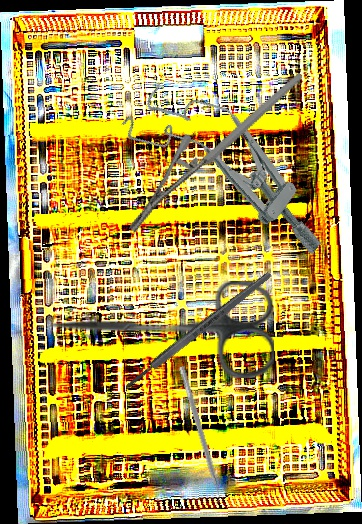Iris Scissors: (50, 281, 274, 378)
Needle Holder: (99, 72, 333, 235)
Scalpel Handle: (123, 269, 274, 392)
Spatula Surgical: (172, 365, 227, 507)
Speculum: (116, 62, 353, 270)
